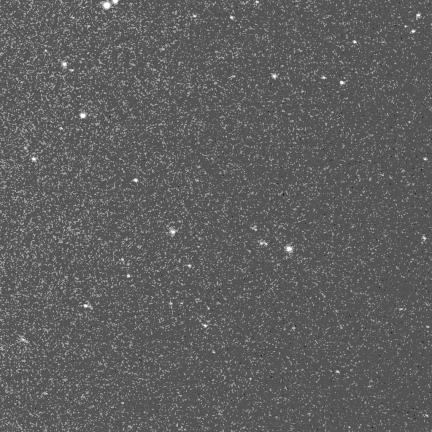blob: (103, 2, 110, 9), (286, 246, 292, 252), (272, 73, 277, 79), (80, 113, 86, 118), (188, 264, 192, 269), (416, 14, 421, 18), (340, 81, 345, 85), (411, 30, 416, 34), (112, 0, 118, 3), (171, 230, 175, 234), (32, 157, 36, 161), (63, 62, 67, 66), (353, 40, 357, 44), (134, 179, 138, 182), (127, 274, 130, 278), (230, 16, 234, 19), (322, 76, 326, 79), (424, 157, 427, 160), (193, 15, 197, 17)
